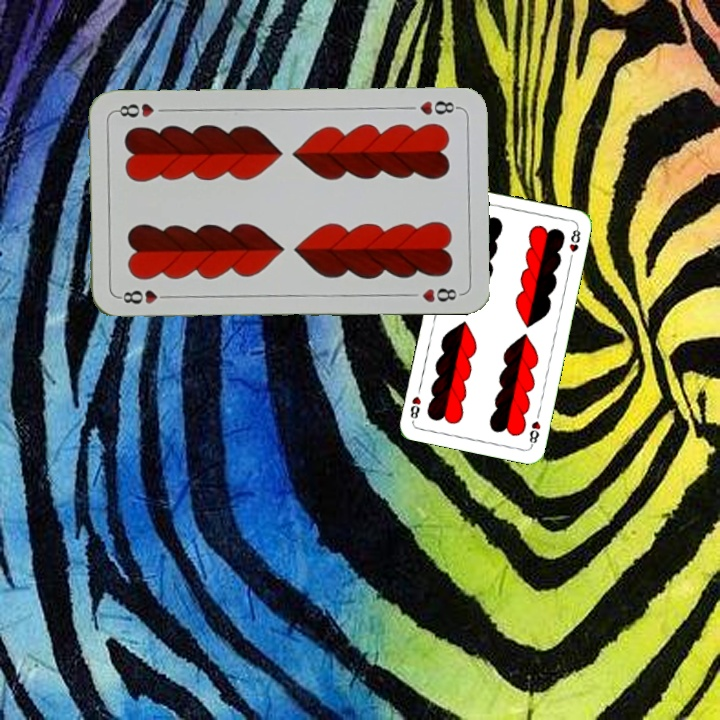H8: (115, 286, 174, 306), (415, 97, 461, 118), (525, 417, 543, 449)
